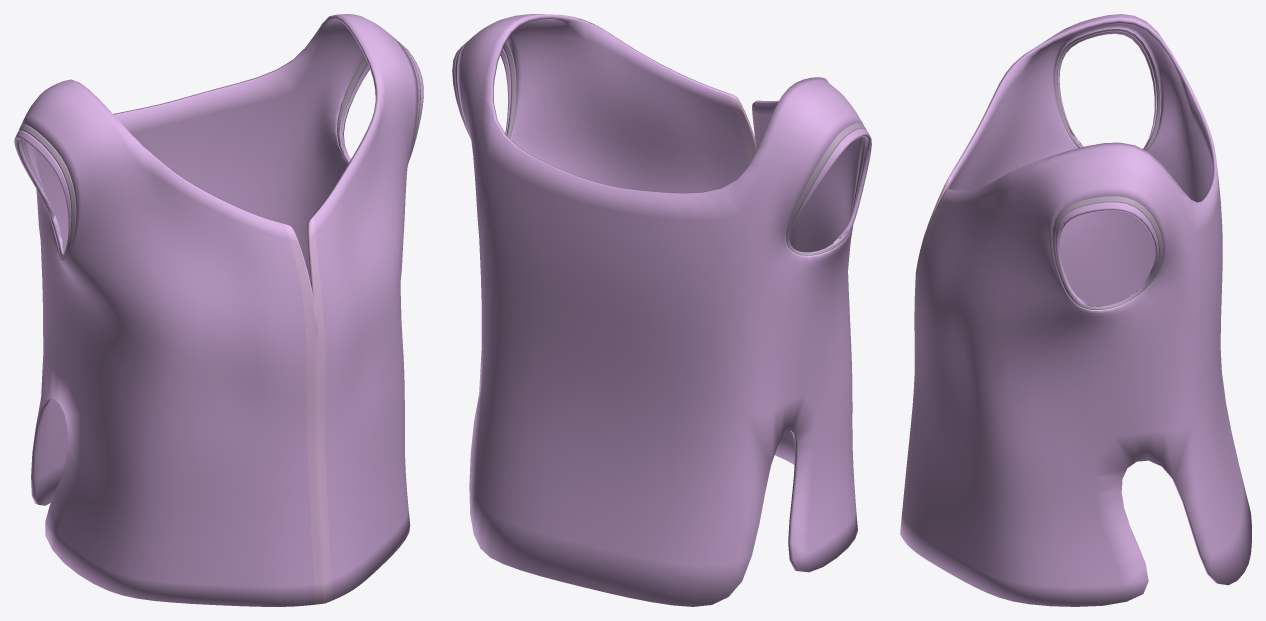
Rendered from women-shirt-transformed.glb.
3 views of the same model, side by side, from view 1: azimuth 30°, elevation 25°; view 2: azimuth 150°, elevation 25°; view 3: azimuth 270°, elevation 25° (orthographic). The views are drawn at different scales.
Visible parts, largest first — view 1: shirt arms; view 2: shirt arms; view 3: shirt arms.
Boxes of the visible parts, bbox=[...] form: shirt arms: bbox=[14, 14, 423, 606]; shirt arms: bbox=[452, 14, 871, 606]; shirt arms: bbox=[900, 14, 1251, 606].
Size of the model in its own units: 2.98 by 3.52 by 2.47.
